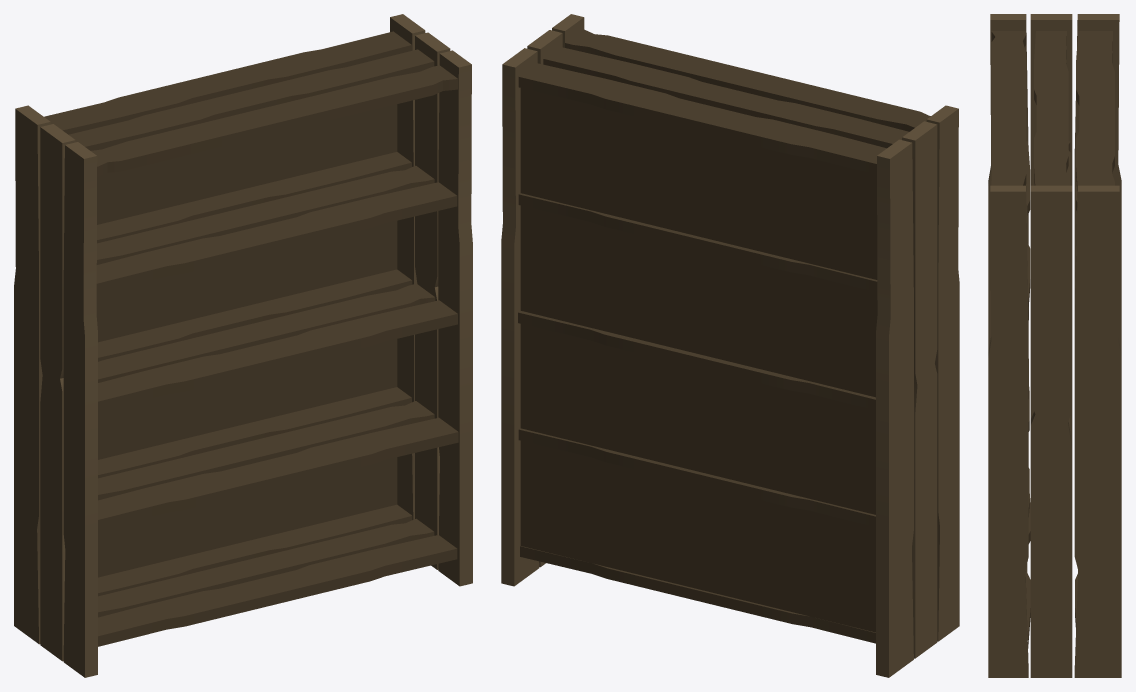
File: Bookcase_Empty.glb
3 renders of one model, left to right at view 1: azimuth 30°, elevation 25°; view 2: azimuth 150°, elevation 25°; view 3: azimuth 270°, elevation 25°, orthographic. The views are drawn at different scales.
Parts seen in each view (by area): view 1: Bookcase_Empty; view 2: Bookcase_Empty; view 3: Bookcase_Empty.
Part boxes in pixels (box(x1,y1,x2,y2)): Bookcase_Empty: box(14, 14, 472, 677); Bookcase_Empty: box(501, 14, 959, 677); Bookcase_Empty: box(988, 14, 1121, 677).
Bounding box in the file's own units: 208 × 265 × 65.82.
